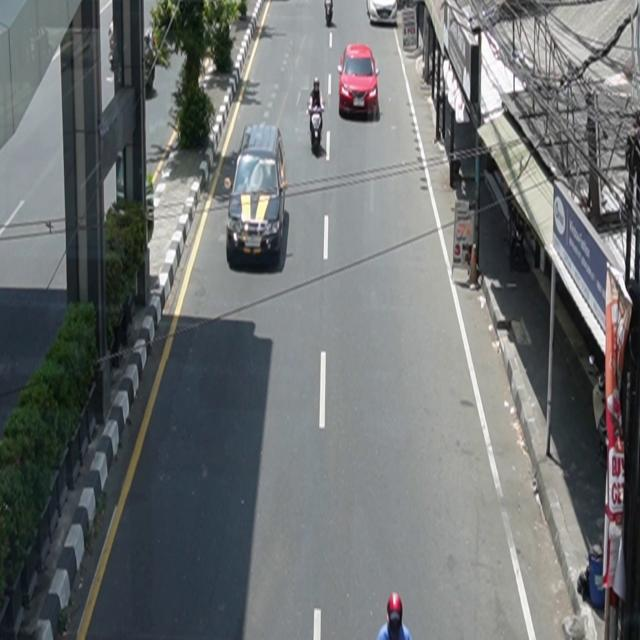car: (227, 123, 289, 266), (338, 44, 381, 120), (367, 1, 398, 26)
